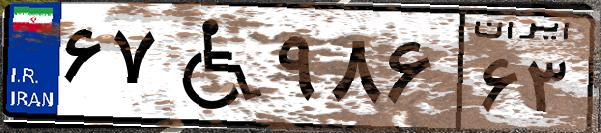3: (525, 38, 570, 115)
6: (385, 28, 445, 110), (57, 26, 110, 100), (475, 38, 525, 113)
7: (110, 28, 158, 98)
8: (330, 28, 385, 110)
9: (270, 28, 330, 110)
ژ (معلولین و جانبازان): (158, 12, 270, 120)
